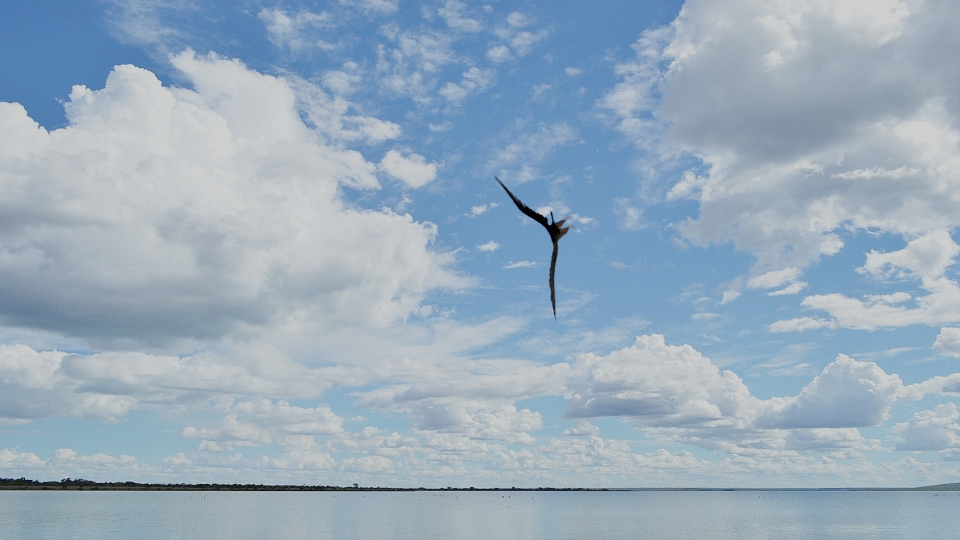bird: (494, 177, 573, 315)
